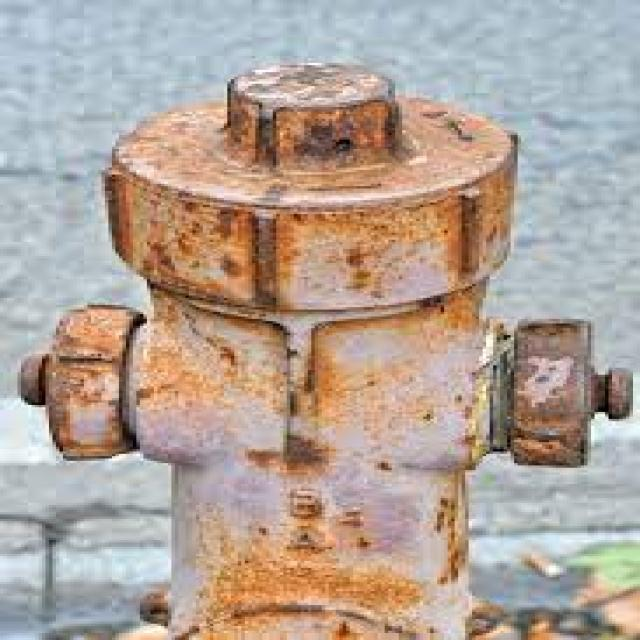corrosion: (15, 62, 633, 640)
